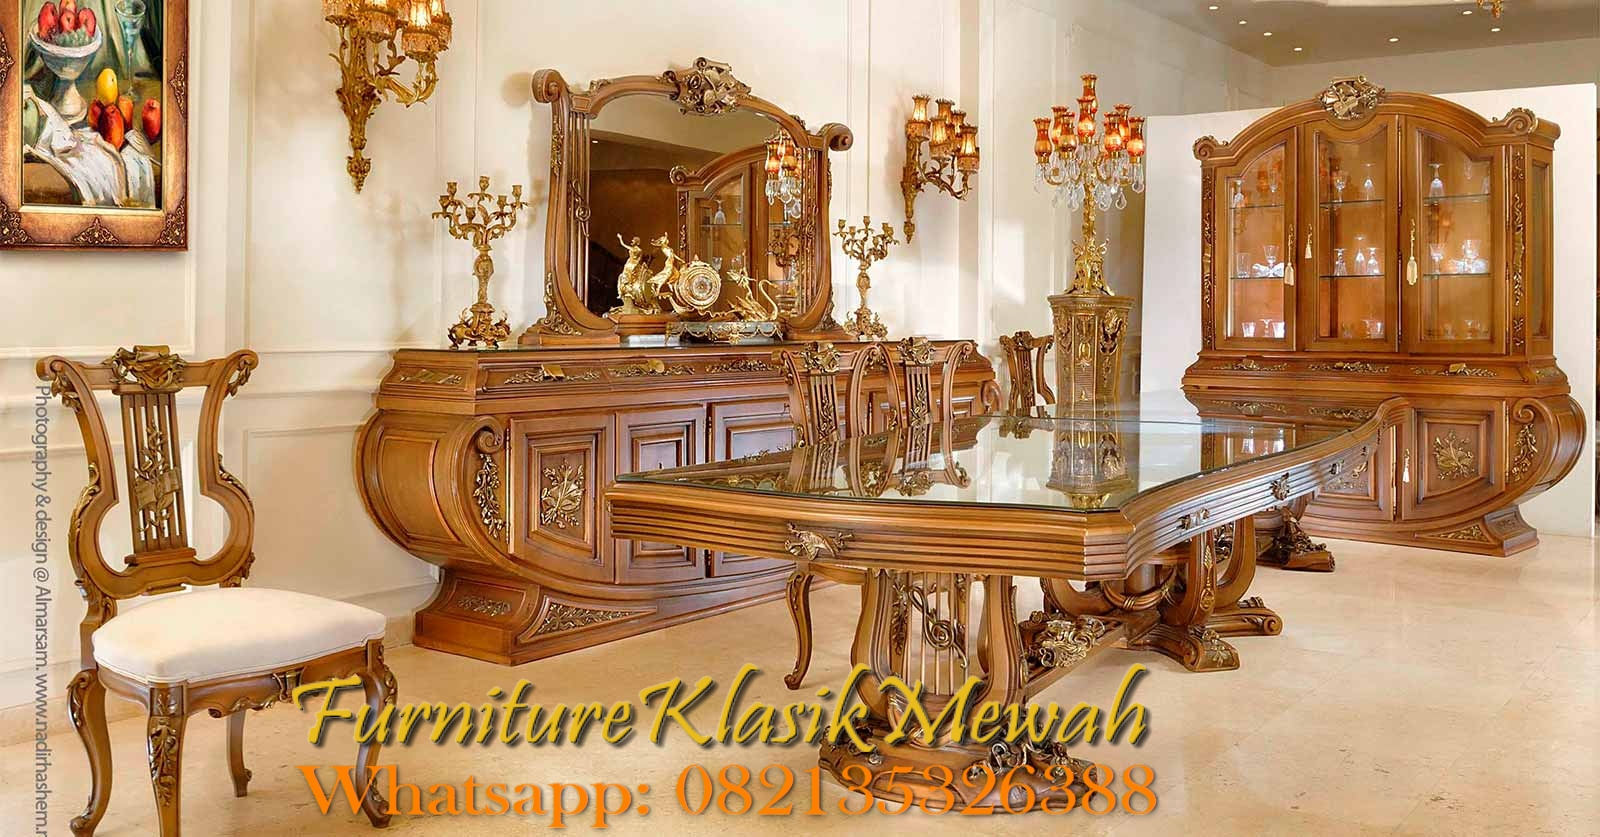Carving Chair: (35, 327, 433, 837)
Carving Table: (565, 381, 1432, 837)
